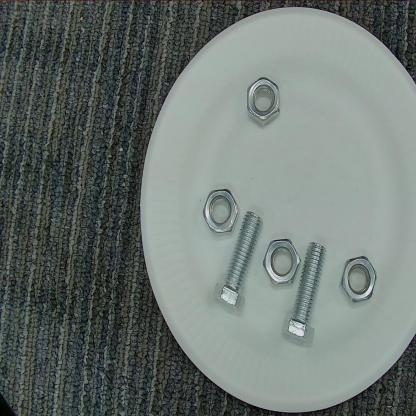FOD: (212, 203, 261, 321), (280, 236, 328, 346), (337, 251, 380, 308), (244, 71, 282, 135), (201, 186, 241, 238), (263, 236, 302, 288)
